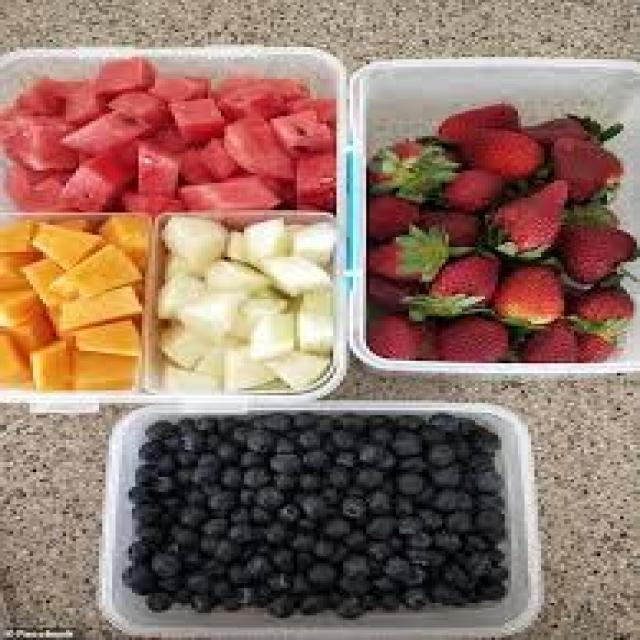biodegradable: (482, 176, 568, 255), (548, 223, 637, 287), (43, 242, 142, 297), (0, 106, 82, 170), (455, 123, 548, 178), (363, 136, 452, 193), (488, 257, 561, 326), (548, 134, 617, 200), (561, 272, 630, 338), (59, 143, 132, 205), (422, 249, 495, 309), (56, 277, 139, 329), (224, 114, 287, 180), (155, 212, 224, 272), (4, 158, 83, 210), (419, 101, 518, 141), (521, 111, 624, 148), (393, 218, 452, 282), (426, 312, 505, 359), (175, 173, 287, 205), (244, 299, 300, 361), (60, 111, 146, 151), (27, 220, 103, 264), (369, 304, 429, 356), (264, 106, 330, 153), (155, 272, 214, 324), (439, 166, 508, 208), (261, 346, 330, 388), (251, 257, 327, 294), (93, 212, 149, 262), (69, 316, 139, 356), (366, 235, 429, 279), (66, 348, 135, 388), (218, 336, 271, 388), (92, 54, 152, 99), (413, 205, 479, 245), (403, 287, 482, 319), (291, 146, 334, 203), (215, 79, 281, 116), (205, 255, 267, 294), (23, 336, 69, 388), (518, 314, 571, 358), (294, 287, 330, 349), (10, 77, 79, 109), (366, 193, 416, 237), (158, 319, 208, 363), (175, 297, 231, 336), (106, 89, 165, 126), (168, 94, 218, 136), (7, 306, 53, 351), (195, 136, 244, 178), (63, 77, 112, 119), (366, 270, 419, 302), (0, 326, 30, 381), (241, 218, 280, 260), (169, 143, 215, 178), (211, 297, 248, 339), (254, 77, 310, 104), (145, 72, 201, 99), (290, 220, 330, 257), (20, 257, 59, 294), (116, 190, 188, 210), (281, 92, 334, 119), (195, 339, 231, 378), (241, 168, 287, 198), (439, 559, 478, 591), (333, 551, 370, 583), (241, 287, 284, 314), (0, 249, 36, 281), (571, 329, 610, 358), (561, 203, 614, 223), (165, 252, 204, 279), (287, 492, 330, 516), (425, 579, 462, 606), (429, 487, 478, 507), (429, 529, 465, 556), (0, 287, 40, 311), (122, 561, 152, 593), (0, 220, 33, 249), (429, 460, 462, 489), (350, 462, 386, 487), (380, 551, 413, 578), (224, 228, 251, 260), (208, 74, 251, 94), (304, 561, 337, 586), (264, 588, 294, 615), (465, 465, 498, 489), (175, 430, 211, 452), (271, 470, 300, 497), (122, 537, 155, 559), (211, 438, 244, 460), (152, 126, 181, 151), (340, 526, 369, 551), (234, 581, 264, 605), (241, 467, 277, 487), (363, 512, 392, 536), (47, 218, 93, 233), (148, 551, 175, 576), (446, 509, 479, 529), (333, 593, 363, 615), (294, 591, 327, 611), (390, 470, 423, 490), (198, 514, 231, 534), (386, 433, 416, 455), (175, 502, 208, 522), (139, 415, 172, 435), (264, 546, 290, 571), (129, 499, 165, 517), (264, 452, 300, 470), (228, 537, 257, 559), (205, 490, 234, 512), (251, 482, 280, 504), (333, 571, 370, 588), (340, 495, 363, 522), (363, 485, 386, 512), (274, 499, 297, 526), (254, 571, 290, 588), (320, 425, 356, 442), (330, 413, 366, 430), (224, 522, 254, 542), (399, 584, 426, 606), (171, 546, 198, 568), (399, 529, 426, 551), (188, 464, 221, 482), (168, 465, 195, 487), (284, 223, 300, 260), (472, 578, 501, 598), (241, 428, 270, 448), (225, 420, 248, 445), (449, 413, 475, 435), (416, 507, 442, 529), (393, 509, 419, 531), (386, 490, 412, 512), (284, 571, 317, 588), (132, 519, 165, 536), (478, 563, 508, 581), (320, 516, 350, 534), (290, 428, 317, 448), (356, 442, 386, 460), (426, 442, 452, 462), (257, 524, 287, 541), (132, 462, 162, 479), (135, 440, 165, 457), (446, 435, 469, 457), (145, 588, 168, 610), (208, 534, 231, 556), (165, 524, 198, 539), (393, 415, 426, 430), (327, 445, 360, 460), (247, 506, 274, 524), (211, 415, 238, 433), (356, 586, 376, 610), (469, 428, 492, 448), (188, 591, 211, 611), (185, 571, 208, 591), (225, 564, 248, 584), (149, 475, 172, 495), (214, 593, 241, 610), (462, 450, 488, 467), (195, 556, 221, 573), (261, 413, 287, 430), (330, 537, 350, 559), (409, 480, 429, 502), (323, 462, 343, 484), (297, 470, 317, 492), (472, 507, 501, 522), (416, 425, 445, 440), (152, 571, 181, 586), (171, 450, 198, 465), (294, 549, 314, 569), (310, 536, 330, 556), (383, 531, 403, 551), (373, 450, 393, 470), (390, 455, 423, 467), (406, 561, 429, 578), (228, 504, 251, 521), (208, 578, 234, 593), (152, 452, 178, 467), (380, 590, 400, 608), (300, 447, 320, 465), (178, 487, 201, 502), (126, 482, 149, 497), (366, 423, 389, 438), (248, 556, 268, 573), (360, 539, 380, 556), (238, 487, 258, 504), (158, 430, 178, 447), (218, 465, 234, 485), (155, 534, 181, 546), (310, 413, 330, 428), (188, 413, 208, 428), (238, 452, 261, 465), (462, 544, 485, 556), (472, 492, 495, 504), (426, 413, 449, 425), (320, 591, 343, 603), (287, 413, 310, 425), (191, 450, 218, 460), (290, 531, 310, 544), (168, 586, 185, 601), (274, 432, 287, 450), (159, 512, 182, 522), (297, 517, 317, 527), (244, 415, 264, 425), (462, 561, 478, 573), (482, 529, 498, 541), (366, 415, 386, 423), (172, 420, 188, 430), (485, 551, 498, 563), (462, 529, 475, 541)
plastic: (0, 44, 346, 417), (96, 398, 535, 635), (346, 54, 637, 373)
